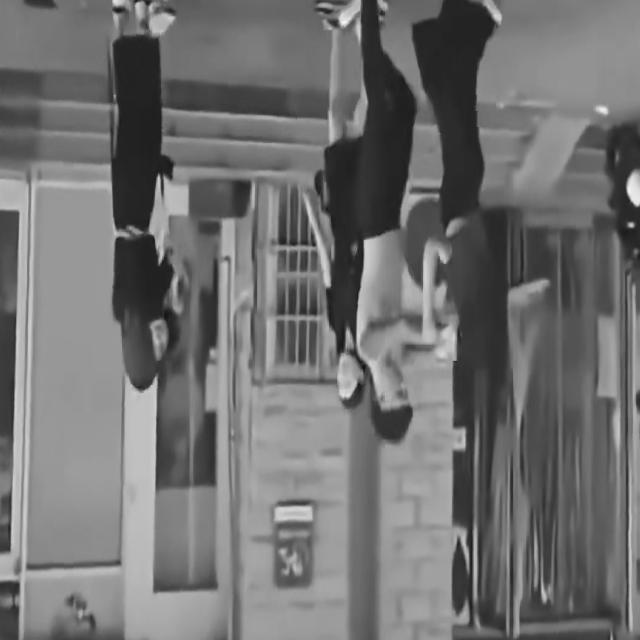fight: (355, 196, 488, 447)
nofight: (89, 0, 171, 397), (318, 3, 366, 410)
